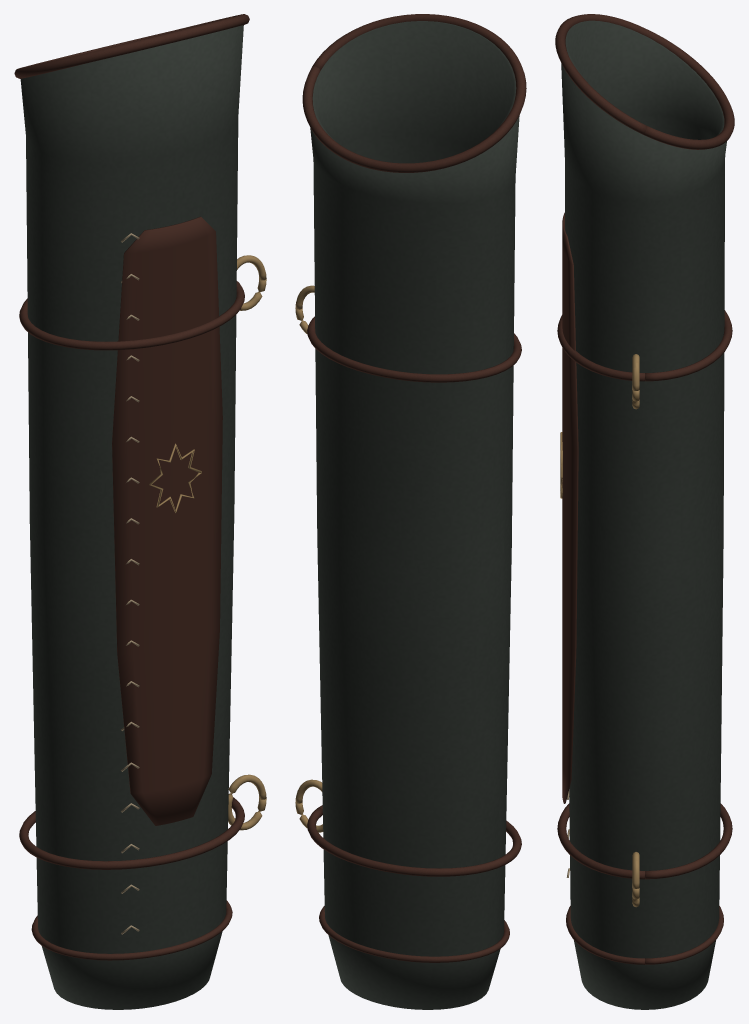
Rendered from quiver_lod0.glb.
3 views of the same model, side by side, from view 1: azimuth 30°, elevation 25°; view 2: azimuth 150°, elevation 25°; view 3: azimuth 270°, elevation 25° (orthographic). The views are drawn at different scales.
Parts seen in each view (by area): view 1: QuiverMesh_LOD0; view 2: QuiverMesh_LOD0; view 3: QuiverMesh_LOD0.
Part boxes in pixels (bbox=[...]): QuiverMesh_LOD0: bbox=[14, 14, 266, 1009]; QuiverMesh_LOD0: bbox=[295, 14, 526, 1009]; QuiverMesh_LOD0: bbox=[555, 14, 734, 1009].
Bounding box in the file's own units: 0.177 × 0.6985 × 0.121.
4 materials, 3 textured.
